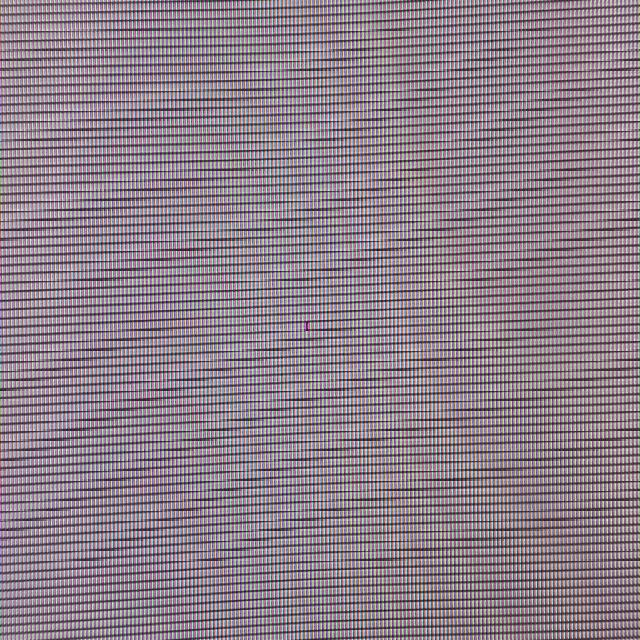Dead pixel: (305, 322, 309, 331)
